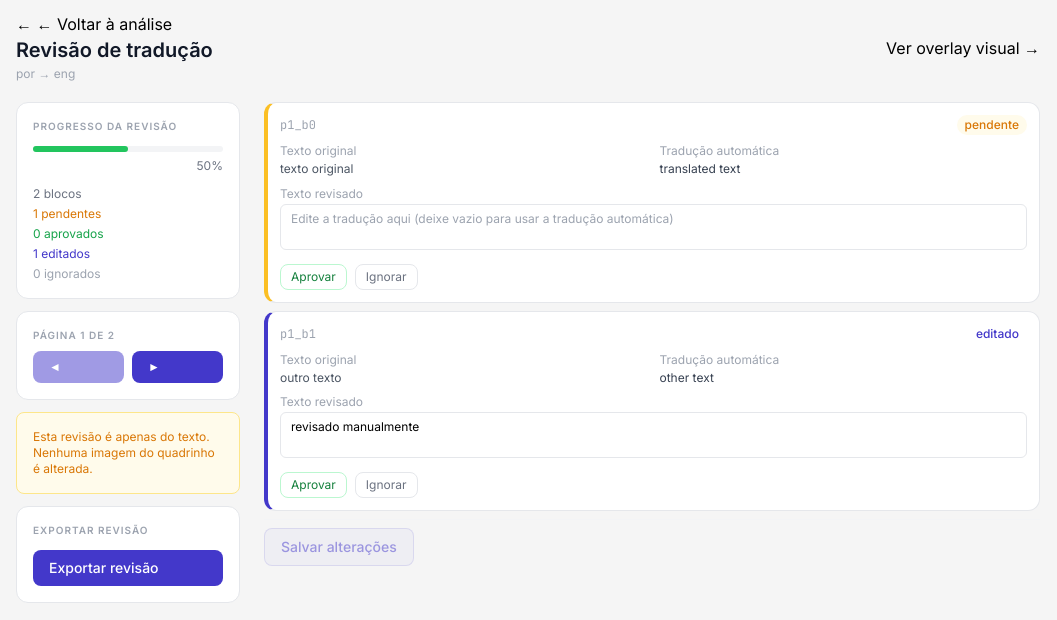
Test: ComicReviewPage — Fase E › botão de próxima página avança para a página 2
This screenshot has width=1057, height=620.
Click the button "►" at coordinates (178, 367), box [132,351,223,383]
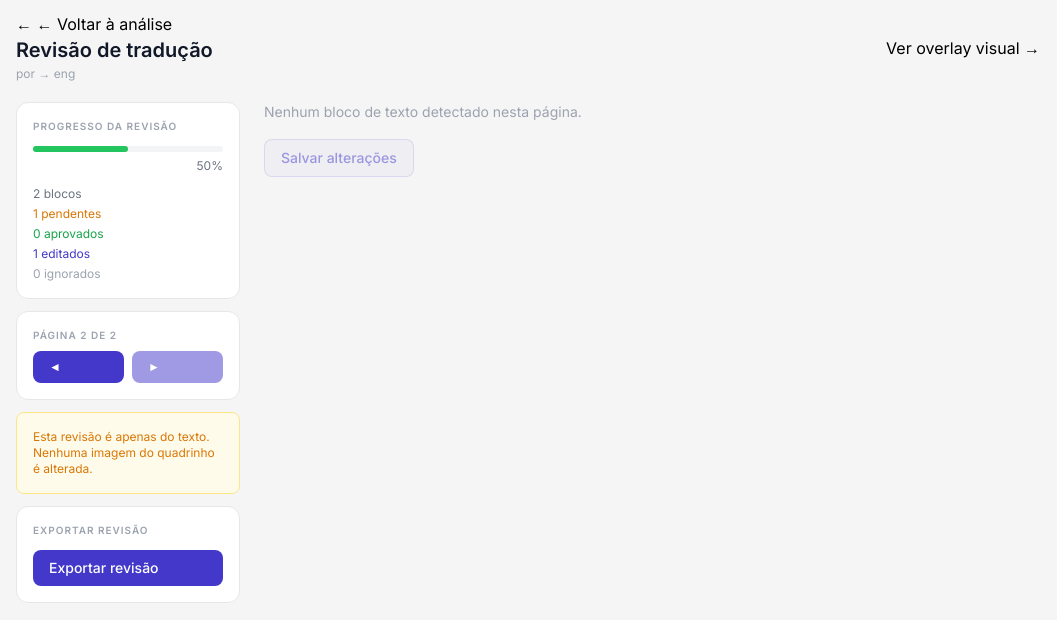
Expected: the text "Página 2 de 2" is shown, [33,329,117,341]
